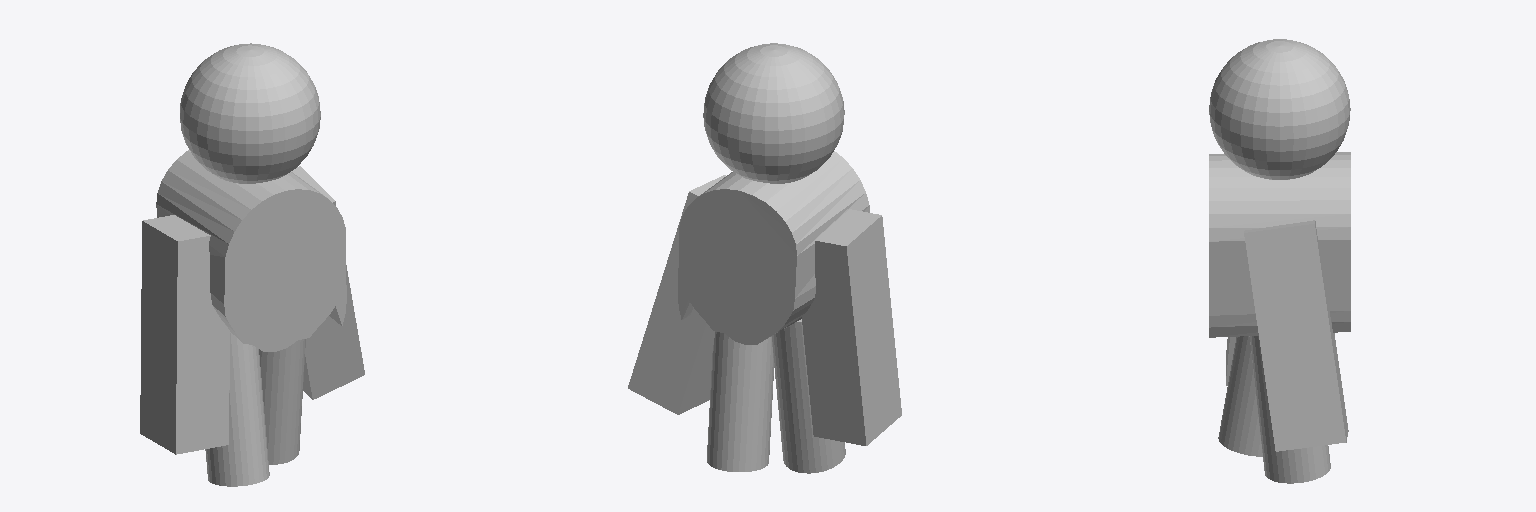
File: Figurine80.obj
The picture shows the model from 3 angles: view 1: azimuth 30°, elevation 25°; view 2: azimuth 150°, elevation 25°; view 3: azimuth 270°, elevation 25°; orthographic projection.
Parts seen in each view (by area): view 1: Cylinder; view 2: Cylinder; view 3: Cylinder.
Boxes of the visible parts, <box> form: Cylinder: <box>140,43,364,486</box>; Cylinder: <box>628,43,901,473</box>; Cylinder: <box>1209,39,1350,483</box>.
Size of the model in its own units: 3.49 by 6.46 by 2.01.